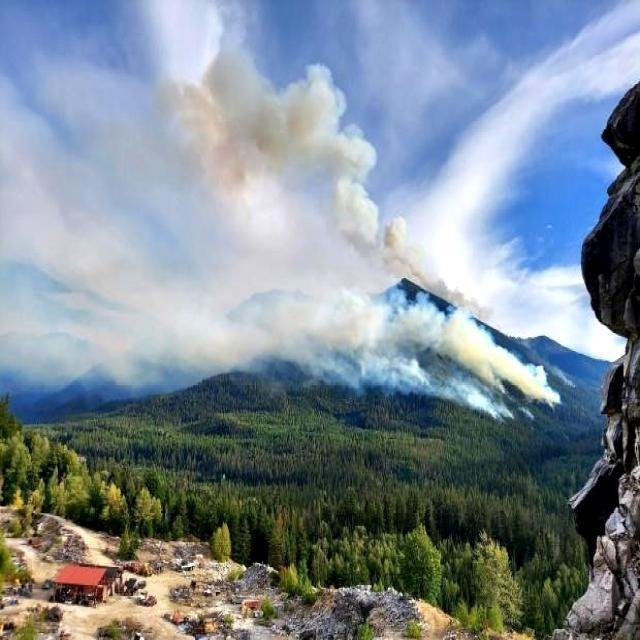Smoke: (134, 37, 567, 428)
